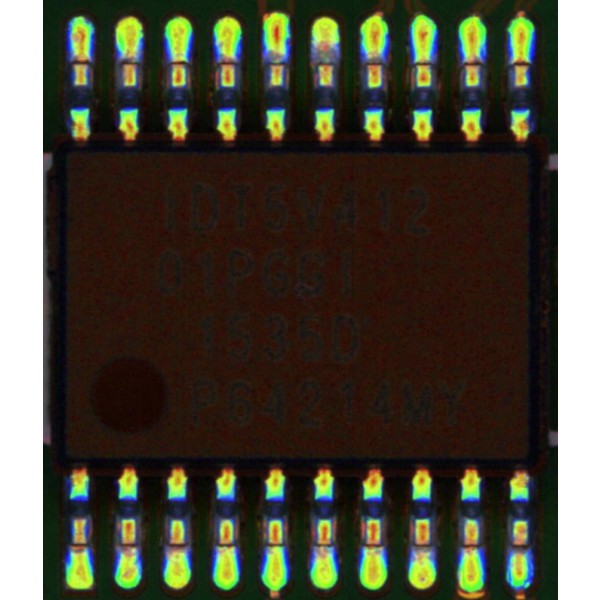Bad_podu: (74, 45, 89, 72), (219, 51, 234, 75), (369, 45, 381, 74), (515, 534, 526, 565), (124, 43, 135, 73), (171, 537, 185, 560), (416, 50, 429, 73), (173, 53, 185, 75), (123, 536, 135, 558), (513, 54, 529, 70), (465, 540, 479, 557), (467, 55, 480, 72), (73, 538, 85, 556), (319, 539, 331, 556)
